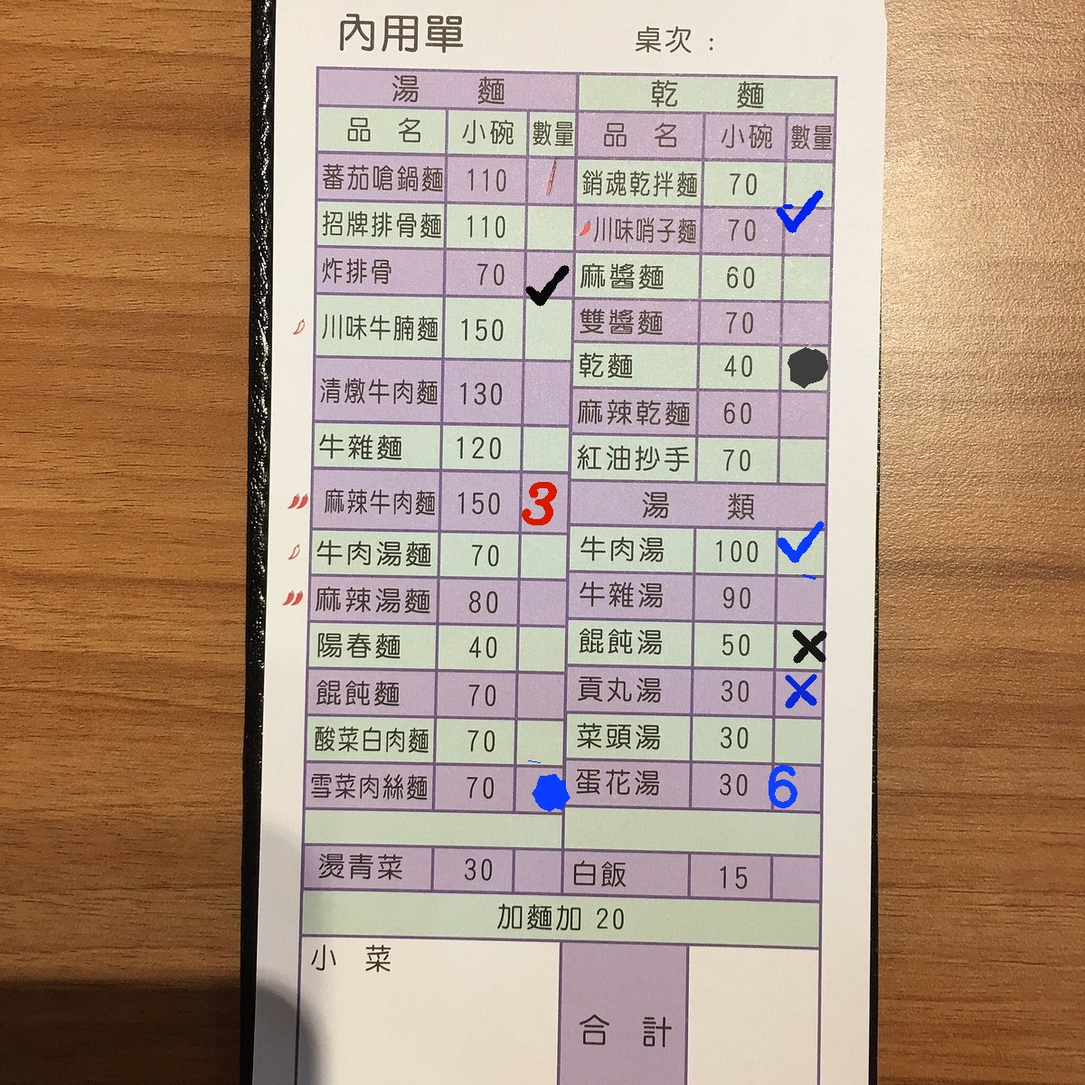marked_circle: (780, 344, 828, 391), (514, 762, 562, 808)
marked_number_3: (519, 470, 565, 533)
marked_number_6: (772, 765, 820, 811)
marked_tick: (782, 206, 830, 252), (525, 251, 573, 297), (777, 529, 825, 575)
marked_x: (772, 670, 820, 716), (775, 623, 823, 669)
